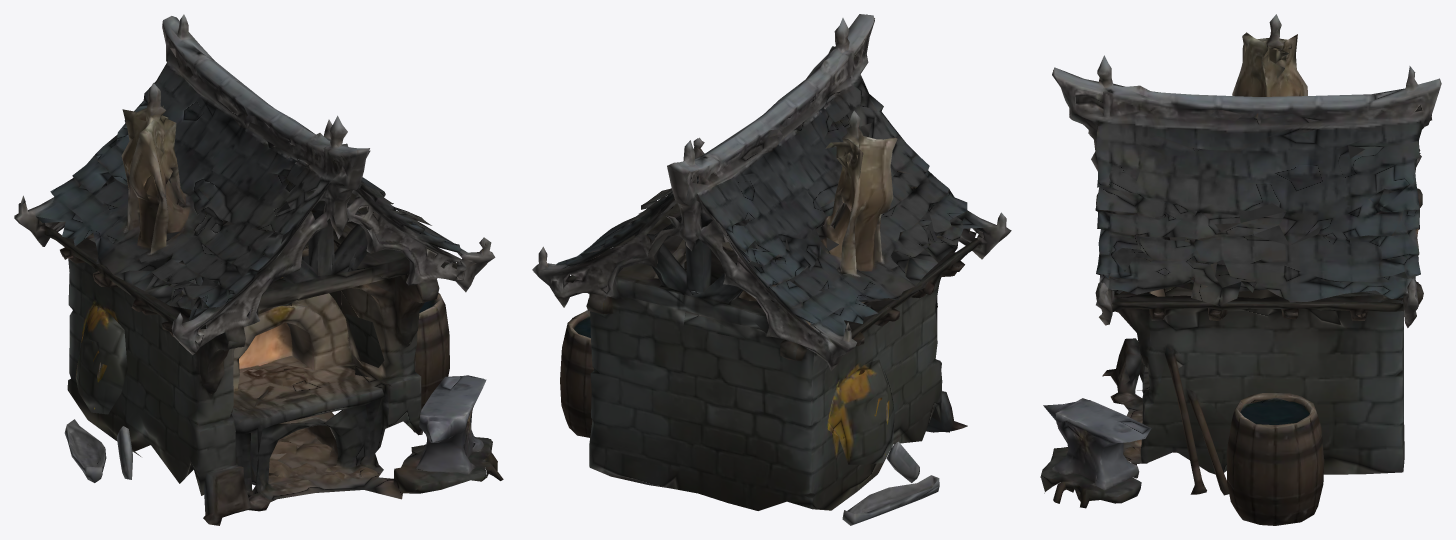
File: blacksmith.glb
3 renders of one model, left to right at view 1: azimuth 30°, elevation 25°; view 2: azimuth 150°, elevation 25°; view 3: azimuth 270°, elevation 25°, orthographic.
Visible parts, largest first — view 1: geometry_0; view 2: geometry_0; view 3: geometry_0.
Boxes of the visible parts, x1,y1,x2,y2 form: geometry_0: (14,14,503,525); geometry_0: (532,14,1011,525); geometry_0: (1040,14,1441,525).
Bounding box in the file's own units: 0.9837 × 0.9867 × 0.9394.
1 material, 1 textured.
